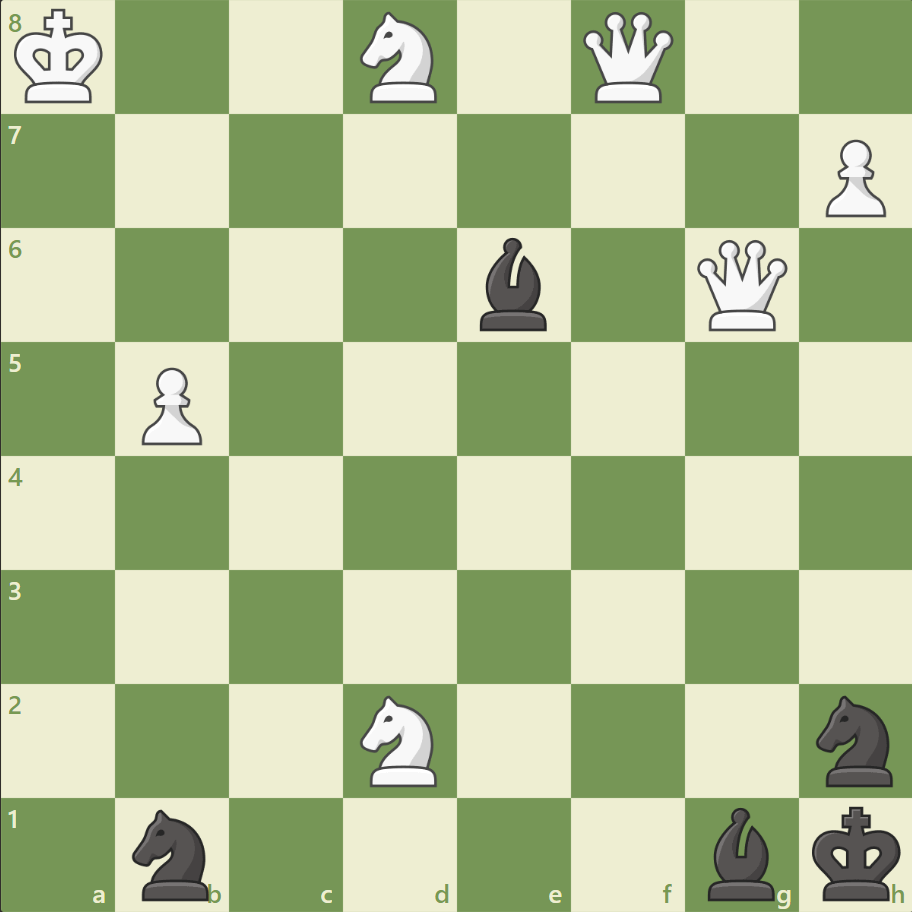K: (11, 4, 111, 112)
N: (351, 7, 449, 110), (351, 688, 449, 791)
P: (133, 359, 208, 450), (815, 132, 889, 223)
Q: (578, 9, 677, 108), (691, 236, 790, 335)
b: (471, 233, 555, 336), (698, 801, 782, 904)
k: (806, 798, 906, 906)
n: (124, 802, 222, 904), (806, 688, 903, 791)
